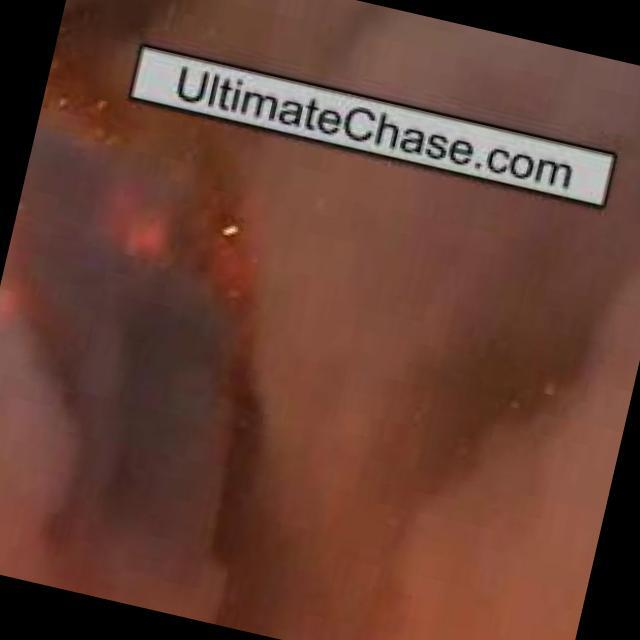Fire: (1, 60, 296, 392)
